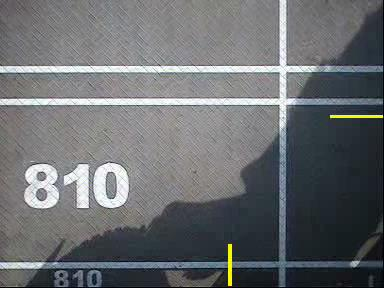groundmarker_2: (97, 106, 167, 151)
